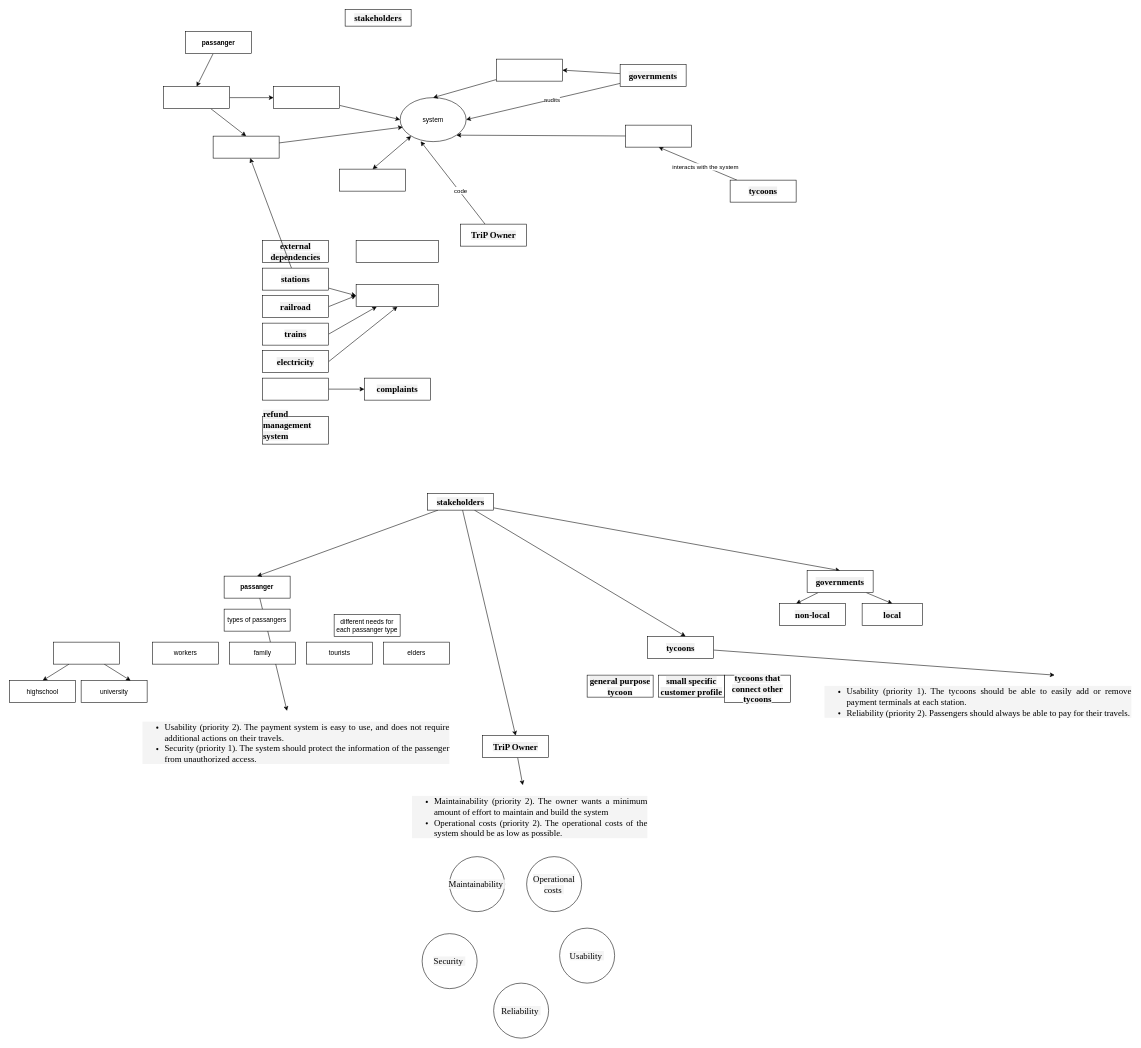
This 1141x1048 diagram has some shape labels left out. Here are the shapes that lost their labels. From the top down, the centre of each, then its label:
the point at 529,70: documents
the point at 196,97: station
the point at 306,97: turnstile
the point at 246,147: terminal
the point at 658,136: tycoon api
the point at 372,180: bank
the point at 397,251: Problems
the point at 397,295: closure/interruption
the point at 295,389: phone companies
the point at 86,653: students
